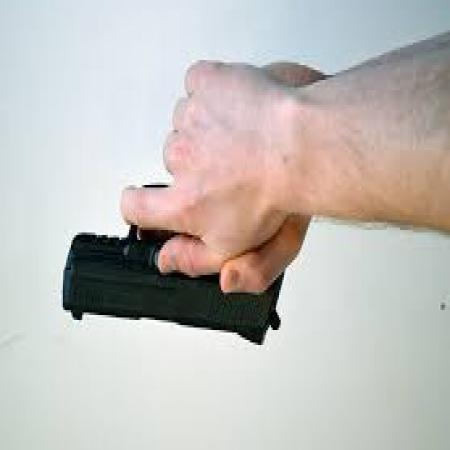Pistol: (51, 180, 296, 378)
